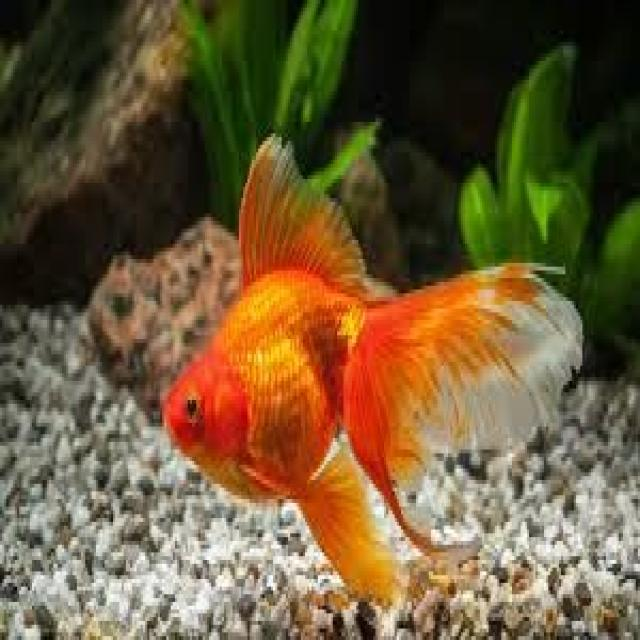Gold-Fish: (110, 106, 611, 610)
